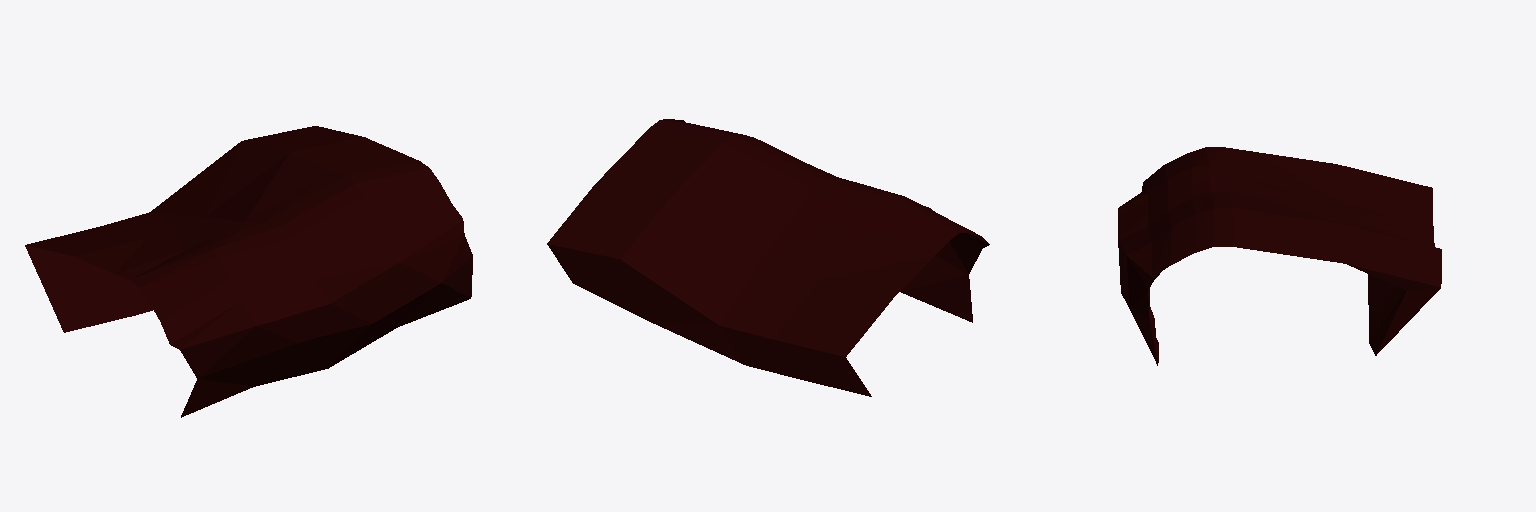
File: abdominal_gastropexy.obj
The picture shows the model from 3 angles: view 1: azimuth 30°, elevation 25°; view 2: azimuth 150°, elevation 25°; view 3: azimuth 270°, elevation 25°; orthographic projection.
Parts seen in each view (by area): view 1: abdominal_gastropexy_abdominal_wall.006; view 2: abdominal_gastropexy_abdominal_wall.006; view 3: abdominal_gastropexy_abdominal_wall.006.
Boxes of the visible parts, <box> form: abdominal_gastropexy_abdominal_wall.006: <box>25,126,472,417</box>; abdominal_gastropexy_abdominal_wall.006: <box>547,119,989,396</box>; abdominal_gastropexy_abdominal_wall.006: <box>1118,147,1441,365</box>.
Size of the model in its own units: 45.23 by 22.44 by 41.01.